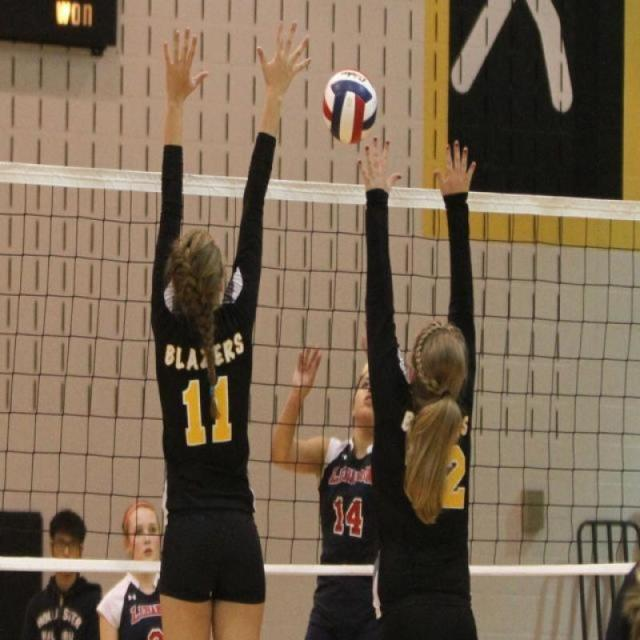volleyball: (320, 65, 379, 145)
